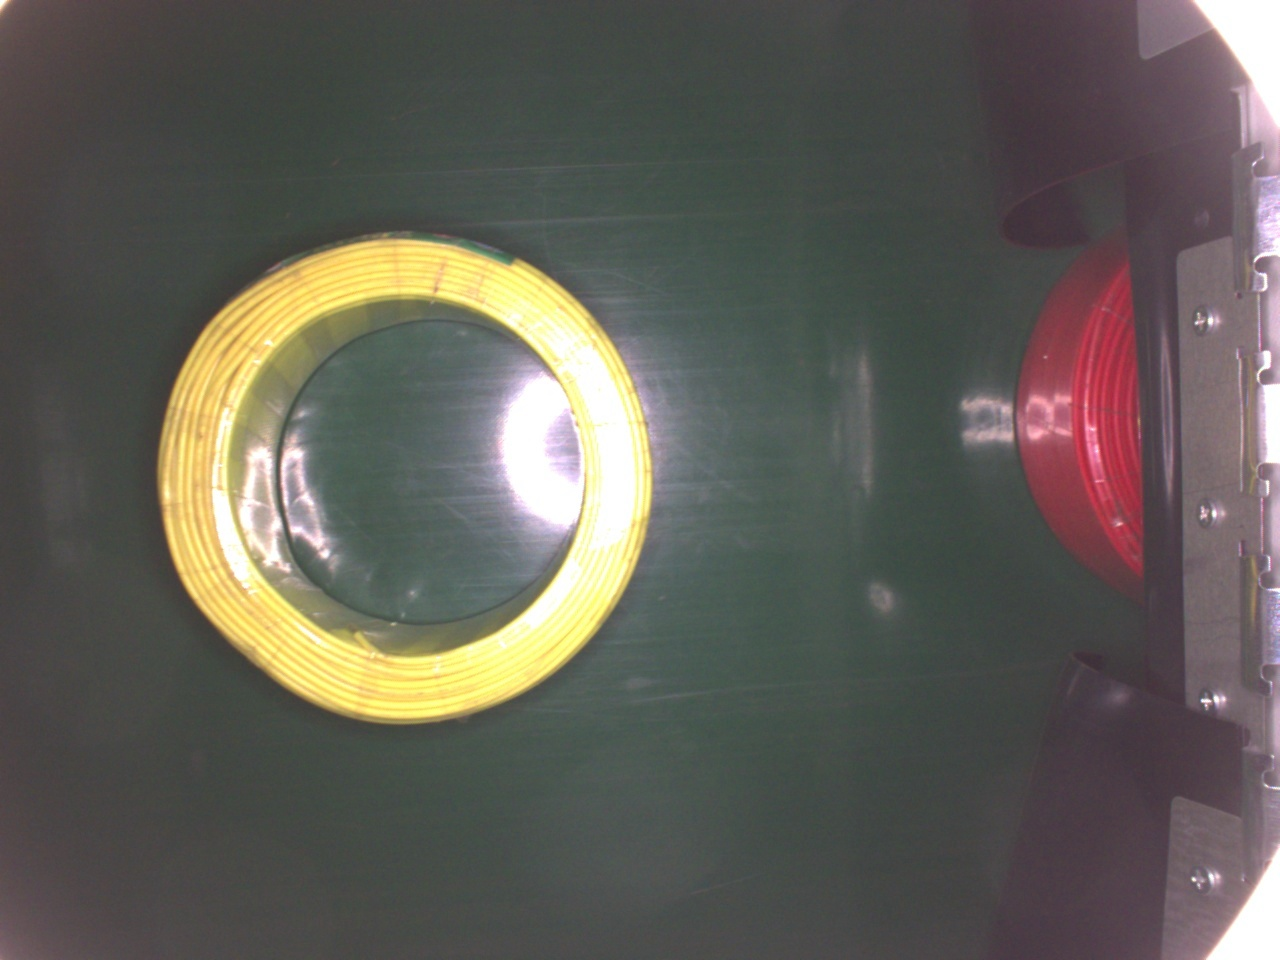red: (1018, 224, 1148, 603)
yellow: (152, 227, 650, 726)
